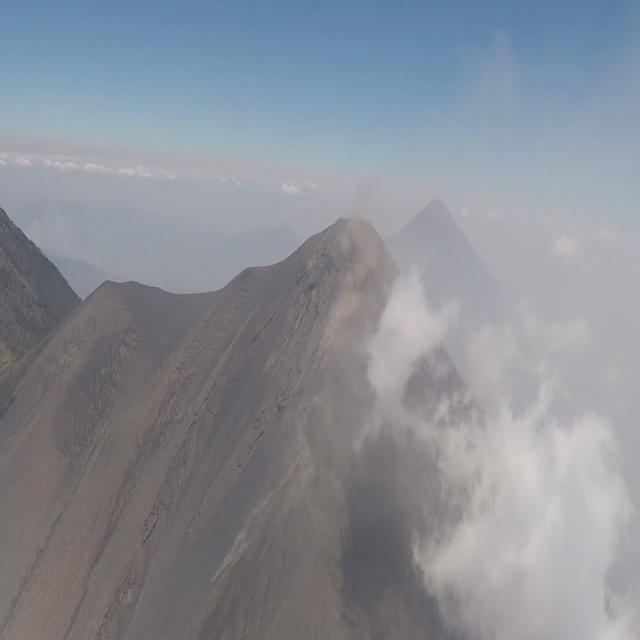Summit: (223, 198, 456, 385)
